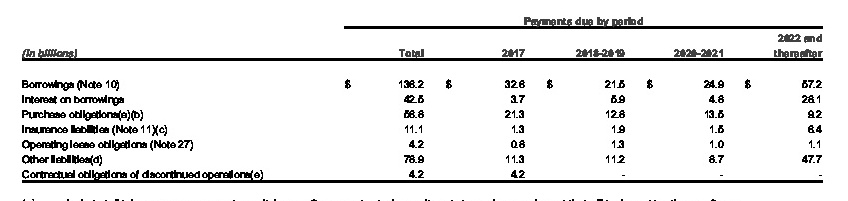table: (0, 0, 848, 201)
